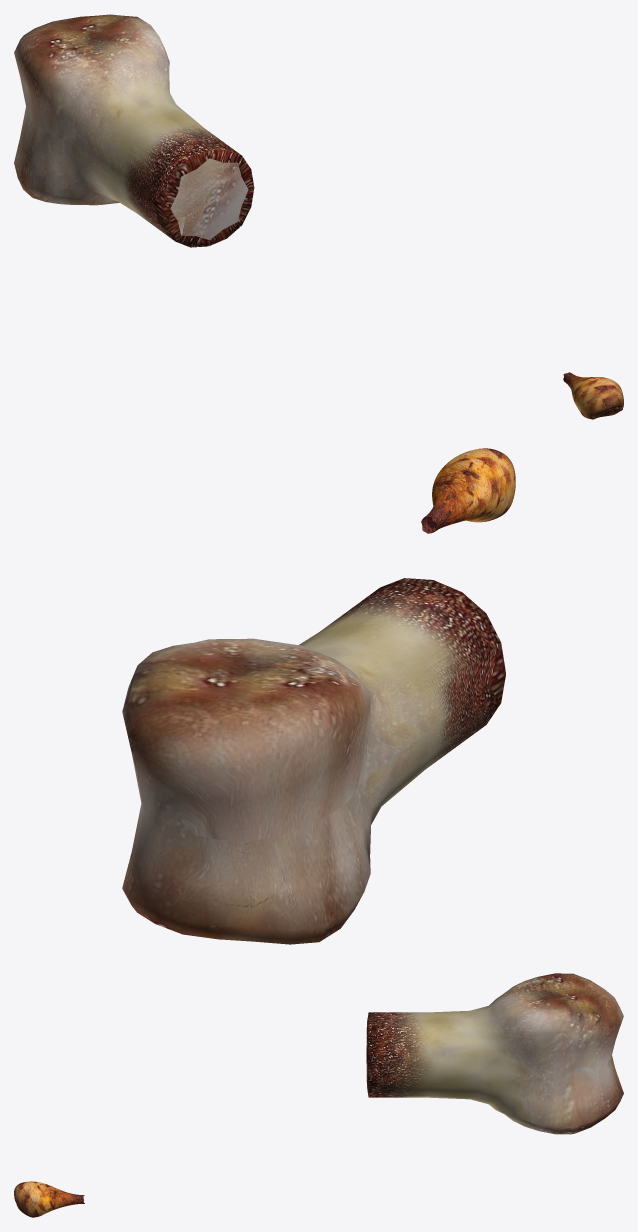
The model's file is turkeyleg.obj.
The picture shows the model from 3 angles, top to bottom: view 1: azimuth 30°, elevation 25°; view 2: azimuth 150°, elevation 25°; view 3: azimuth 270°, elevation 25°; orthographic projection. The views are drawn at different scales.
Visible parts, largest first — view 1: bone, meat; view 2: bone, meat; view 3: bone, meat.
Boxes of the visible parts, bbox=[...] form: bone: bbox=[14, 14, 254, 247]; meat: bbox=[563, 372, 623, 419]; bone: bbox=[122, 578, 505, 944]; meat: bbox=[421, 448, 515, 533]; bone: bbox=[366, 973, 623, 1134]; meat: bbox=[14, 1181, 84, 1217].
Size of the model in its own units: 60.07 by 40.59 by 149.
